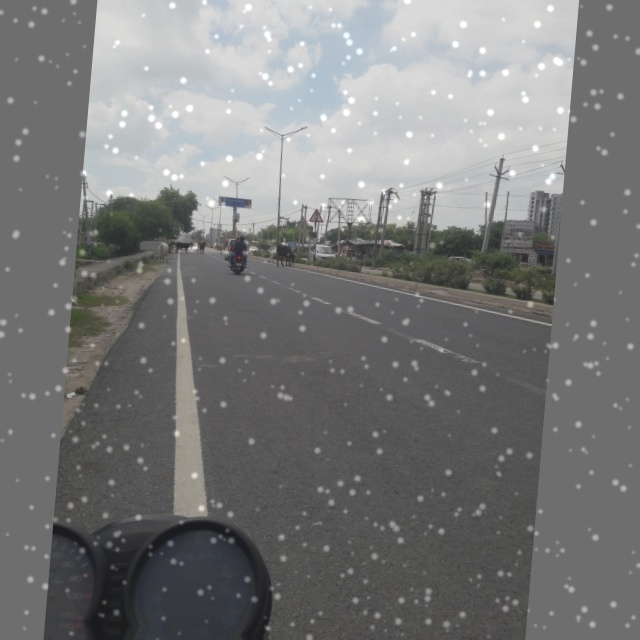Gap_in_Median: (306, 206, 327, 226)
